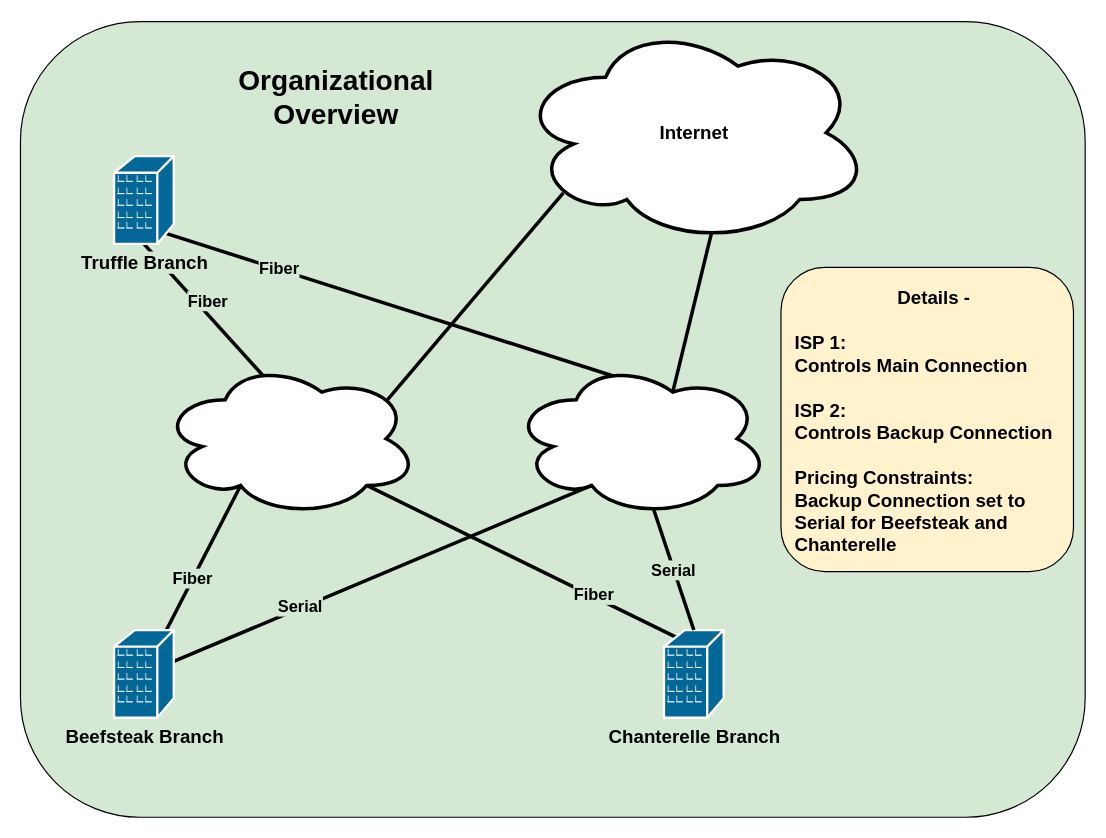
This 1106x838 diagram has some shape labels left out. The box of each missing label's shape, as (x1, y1, x2, y2) in pixels:
ISP 1: (159, 359, 419, 518)
ISP 2: (510, 359, 770, 518)
